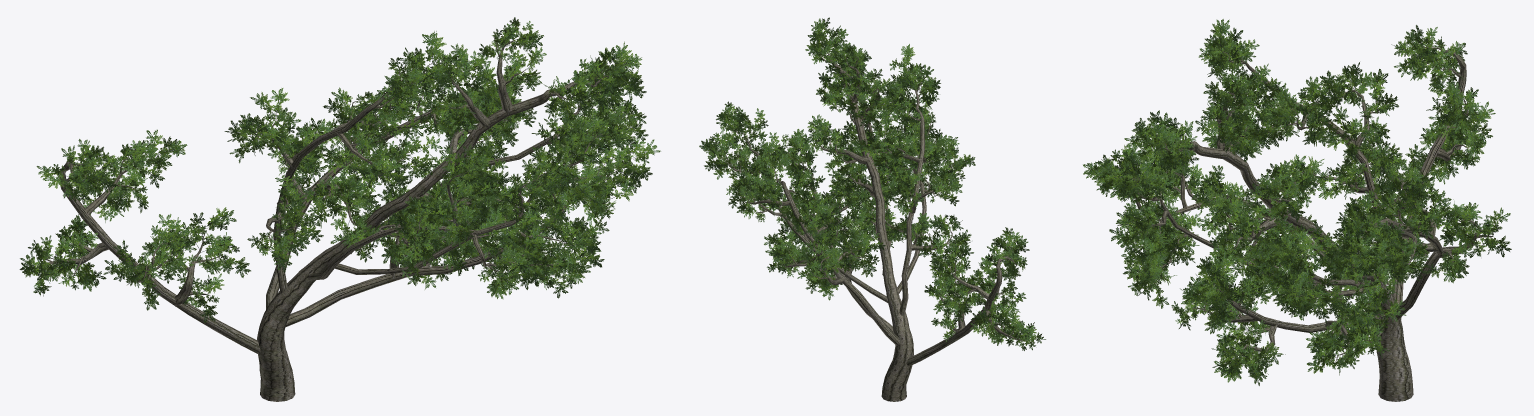
The model's file is tree (7).glb.
3 renders of one model, left to right at view 1: azimuth 30°, elevation 25°; view 2: azimuth 150°, elevation 25°; view 3: azimuth 270°, elevation 25°, orthographic. The views are drawn at different scales.
Parts seen in each view (by area): view 1: Tree; view 2: Tree; view 3: Tree.
Boxes of the visible parts, x1,y1,x2,y2 form: Tree: [19, 17, 660, 401]; Tree: [699, 17, 1045, 401]; Tree: [1083, 19, 1511, 401].
Bounding box in the file's own units: 84.39 × 60.28 × 58.8.
2 materials, 2 textured.
